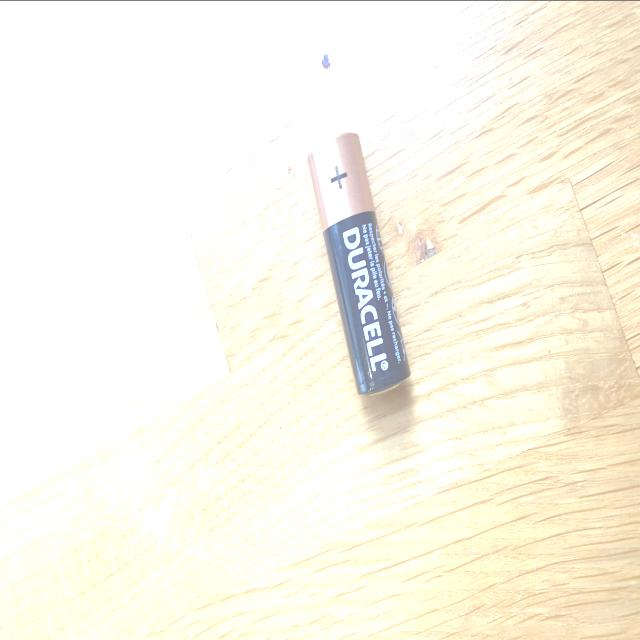AA: (306, 130, 411, 396)
